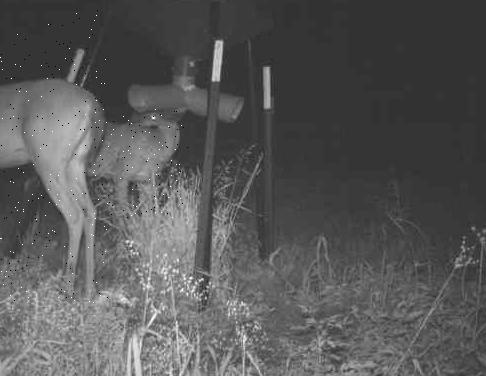Deer: (0, 10, 108, 303), (92, 108, 188, 223)
